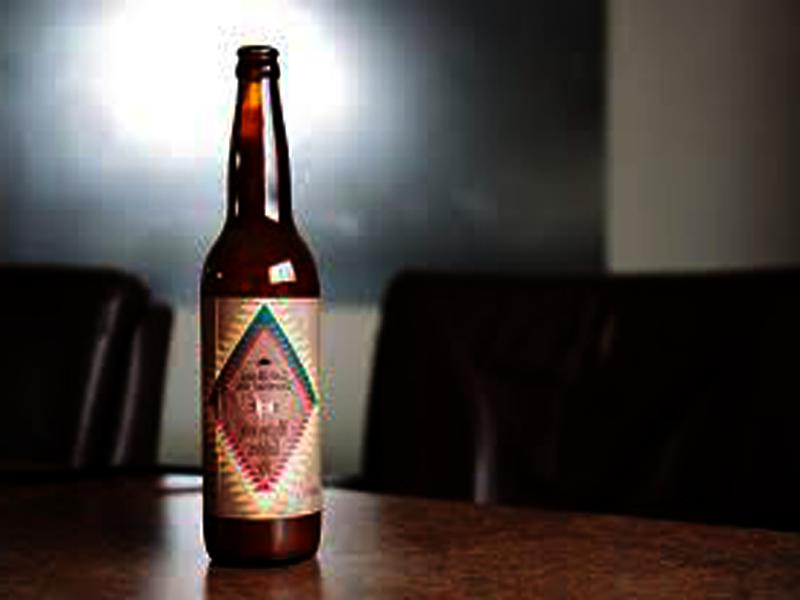Beer: (203, 49, 316, 564)
